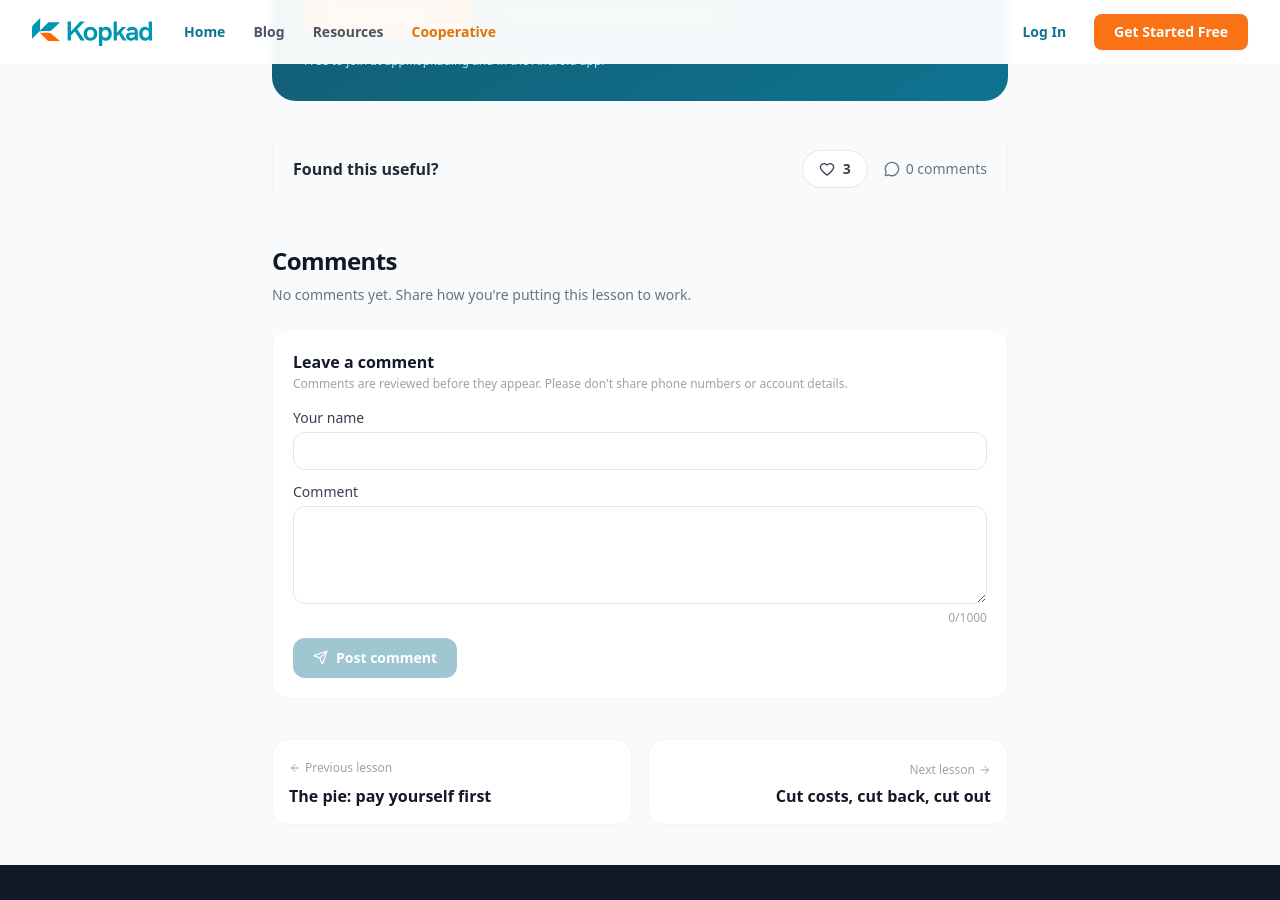
it: BlogPostPage — likes and comments › sends a comment with a name and says it waits for approval
(page scrolled)
Expected: the button "Post comment" is disabled, x1=293 y1=638 x2=457 y2=678
Type "Bayo" into the field labelled "Your name" at (640,451), box x1=293 y1=432 x2=987 y2=470
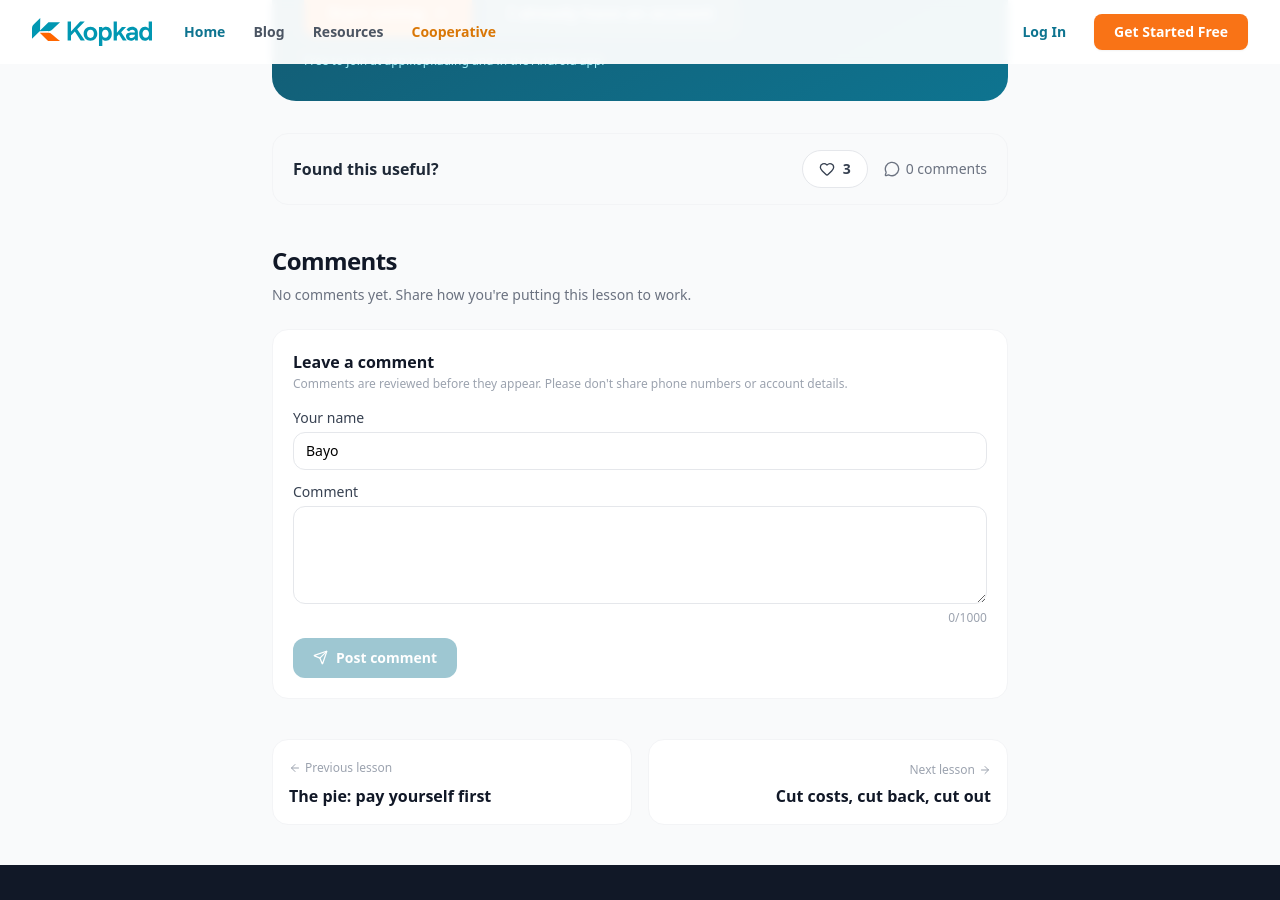
Type "Starting with ₦100 a day." into the text box labelled "Comment" at (640,555), box x1=293 y1=506 x2=987 y2=604
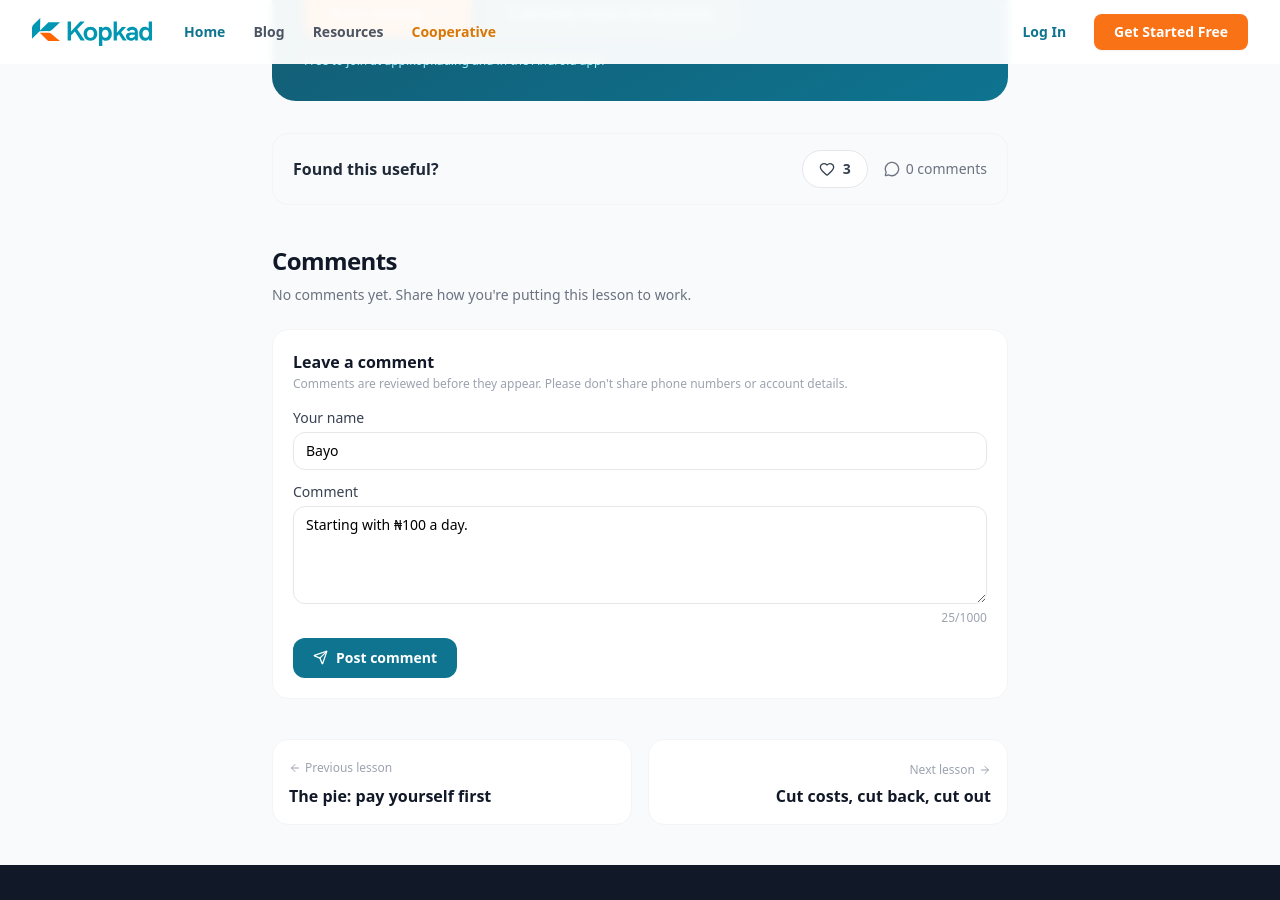
Click the button "Post comment" at (375,658), box x1=293 y1=638 x2=457 y2=678
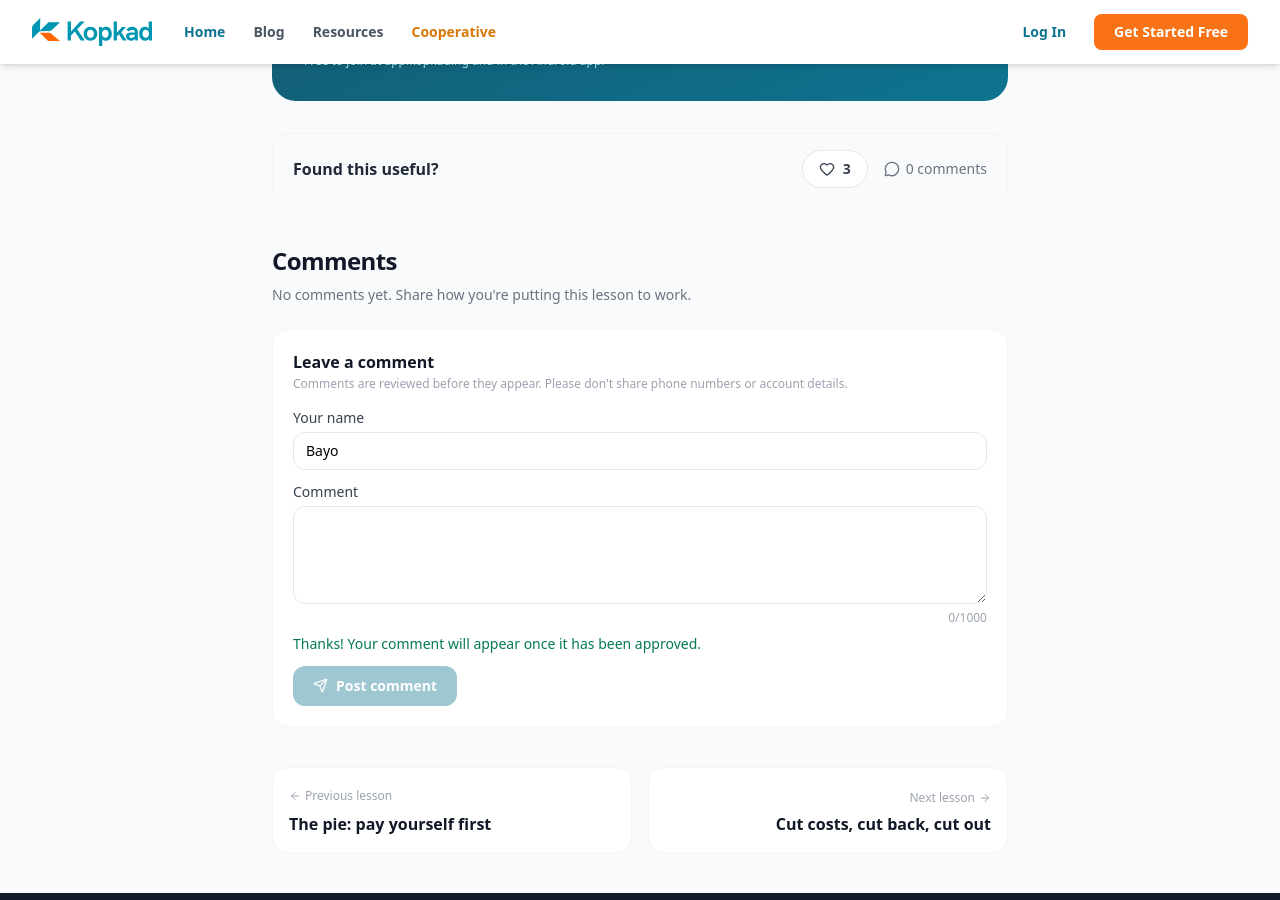
Now the message shows "once it has been approved", box x1=293 y1=634 x2=701 y2=653
Now the text box labelled "Comment" is empty, box x1=293 y1=506 x2=987 y2=604
